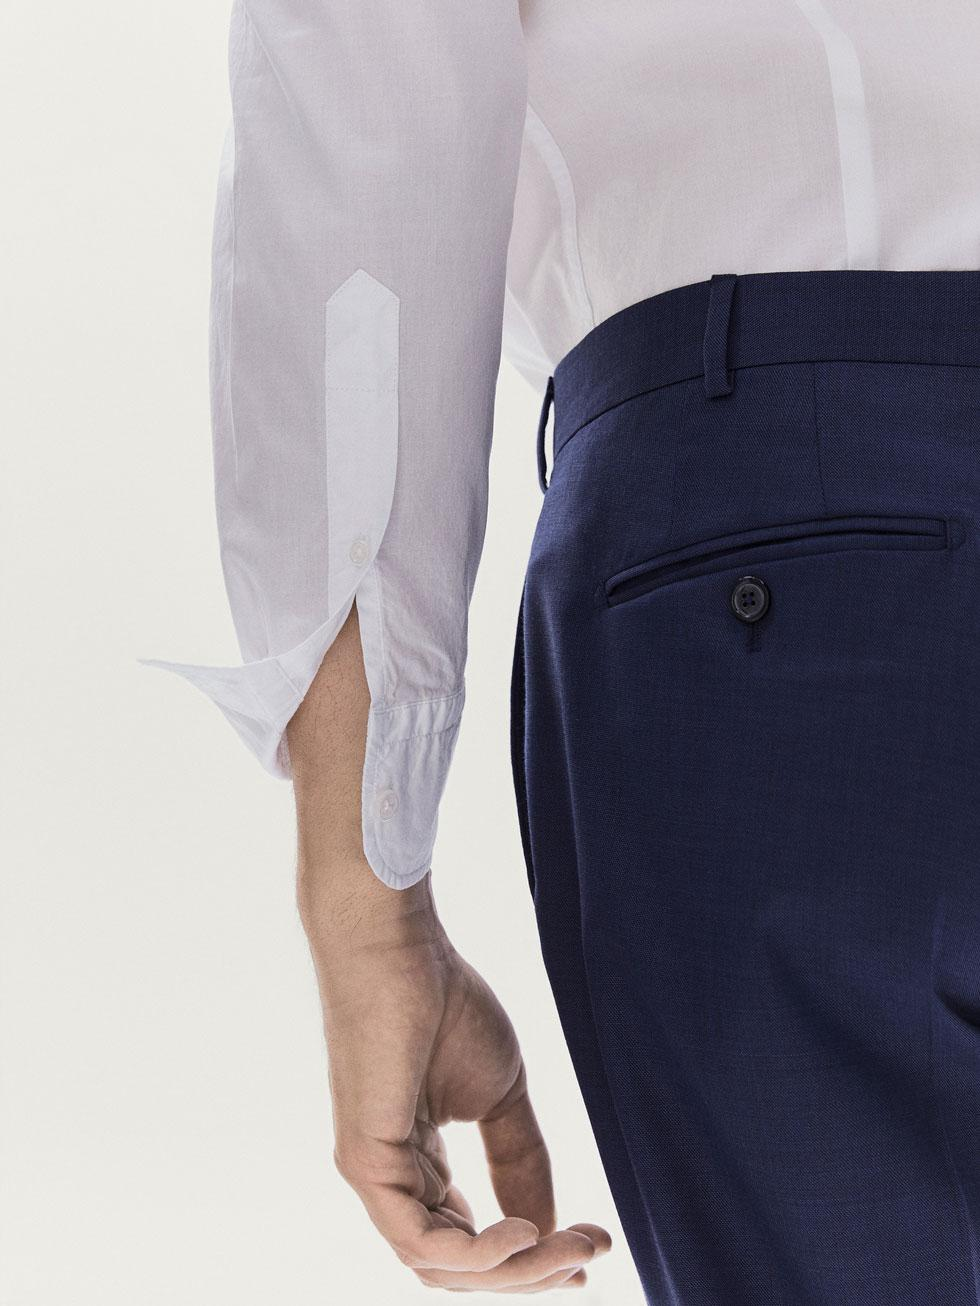teeshirt: (137, 4, 980, 891)
